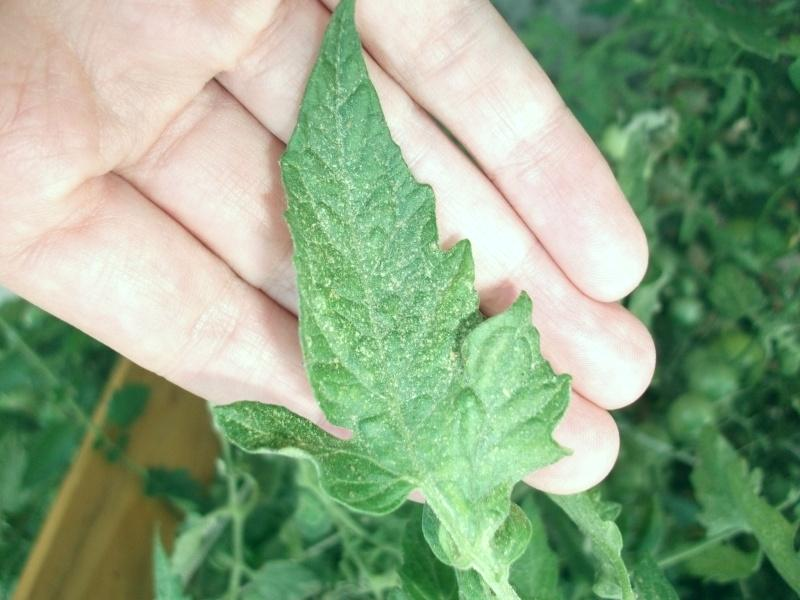Tomato mold leaf: (206, 3, 542, 545)
